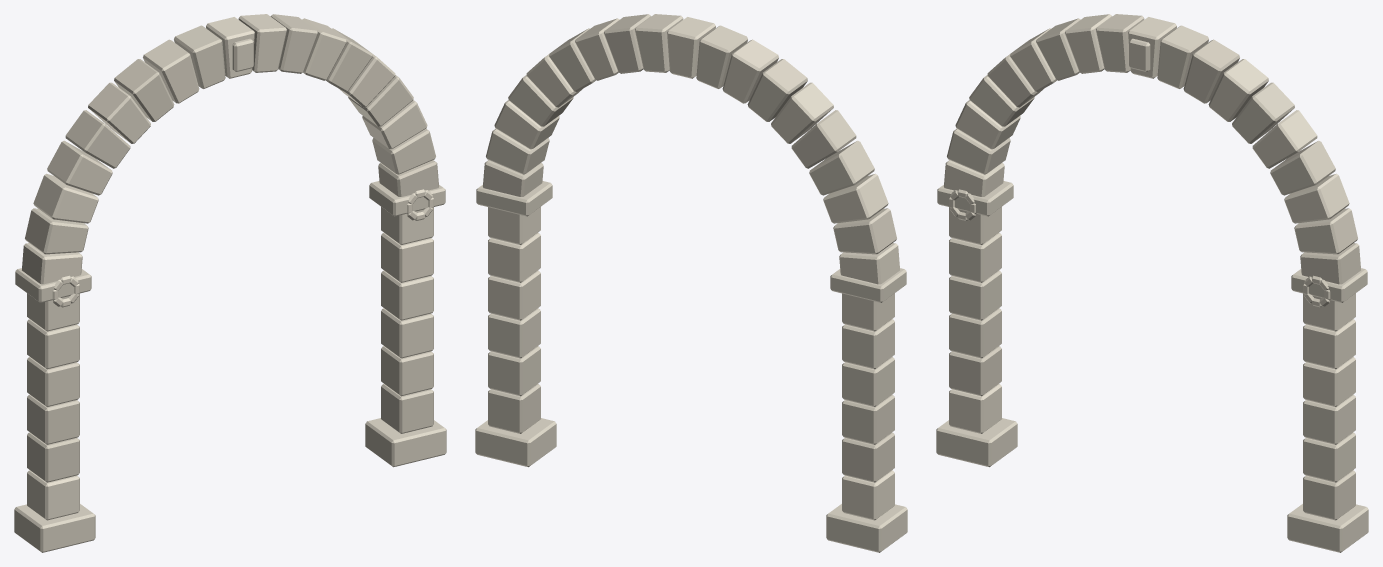
Rendered from limestone-arch-v147.glb.
3 renders of one model, left to right at view 1: azimuth 30°, elevation 25°; view 2: azimuth 150°, elevation 25°; view 3: azimuth 330°, elevation 25°, orthographic.
Visible parts, largest first — view 1: Pier_Base_1, Pier_Base_-1, Carved_Voussoir_15, Carved_Voussoir_16, Carved_Voussoir_12, Carved_Voussoir_13, Carved_Voussoir_11, Carved_Voussoir_17, Carved_Voussoir_14, Pier_Meleke_Block_-1_0, Pier_Meleke_Block_-1_1, Pier_Meleke_Block_-1_4 (+24 smaller); view 2: Pier_Base_1, Pier_Base_-1, Carved_Voussoir_15, Carved_Voussoir_16, Carved_Voussoir_12, Carved_Voussoir_13, Carved_Voussoir_11, Carved_Voussoir_17, Carved_Voussoir_14, Pier_Meleke_Block_-1_0, Pier_Meleke_Block_-1_1, Pier_Meleke_Block_-1_4 (+23 smaller); view 3: Pier_Base_-1, Pier_Base_1, Carved_Voussoir_3, Carved_Voussoir_2, Carved_Voussoir_6, Carved_Voussoir_5, Carved_Voussoir_7, Carved_Voussoir_1, Carved_Voussoir_4, Pier_Meleke_Block_1_0, Pier_Meleke_Block_1_1, Pier_Meleke_Block_1_4 (+24 smaller).
Boxes of the visible parts, x1,y1,x2,y2 form: Pier_Base_1: (365,418,446,467); Pier_Base_-1: (14,504,95,552); Carved_Voussoir_15: (47,140,112,195); Carved_Voussoir_16: (33,173,98,223); Carved_Voussoir_12: (114,59,174,121); Carved_Voussoir_13: (88,82,150,143); Carved_Voussoir_11: (143,39,199,103); Carved_Voussoir_17: (25,208,88,254); Carved_Voussoir_14: (65,110,130,168); Pier_Meleke_Block_-1_0: (27,470,79,520); Pier_Meleke_Block_-1_1: (27,432,79,482); Pier_Meleke_Block_-1_4: (27,319,79,369); Pier_Base_1: (475,418,556,467); Pier_Base_-1: (826,504,907,552); Carved_Voussoir_15: (809,140,874,195); Carved_Voussoir_16: (823,173,888,223); Carved_Voussoir_12: (747,59,807,121); Carved_Voussoir_13: (771,82,833,143); Carved_Voussoir_11: (722,39,778,103); Carved_Voussoir_17: (833,208,896,254); Carved_Voussoir_14: (791,110,856,168); Pier_Meleke_Block_-1_0: (842,470,894,520); Pier_Meleke_Block_-1_1: (842,432,894,482); Pier_Meleke_Block_-1_4: (842,319,894,369); Pier_Base_-1: (936,418,1017,467); Pier_Base_1: (1287,504,1368,552); Carved_Voussoir_3: (1270,140,1335,195); Carved_Voussoir_2: (1284,173,1349,223); Carved_Voussoir_6: (1208,59,1268,121); Carved_Voussoir_5: (1232,82,1294,143); Carved_Voussoir_7: (1183,39,1239,103); Carved_Voussoir_1: (1294,208,1357,254); Carved_Voussoir_4: (1252,110,1317,168); Pier_Meleke_Block_1_0: (1303,470,1355,520); Pier_Meleke_Block_1_1: (1303,432,1355,482); Pier_Meleke_Block_1_4: (1303,319,1355,369).
Size of the model in its own units: 5.38 by 5.9 by 0.66.
